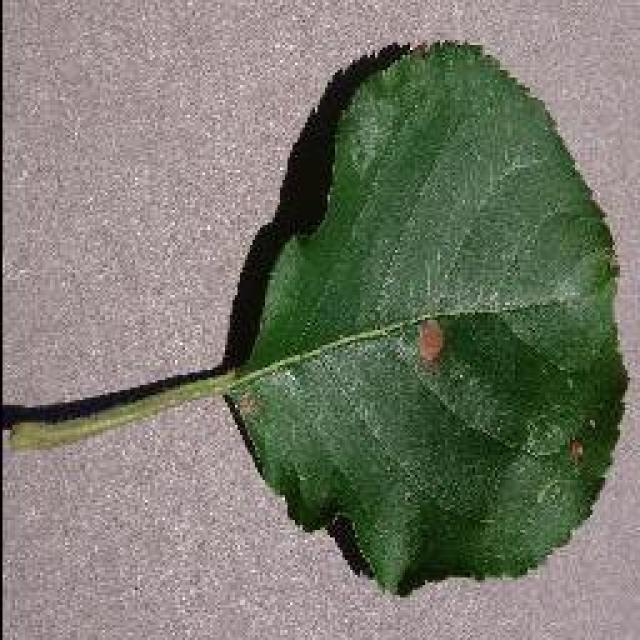Black_rot: (2, 35, 628, 597)
